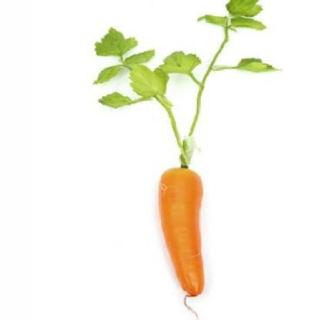carrot: (142, 160, 225, 308)
